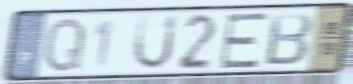1: (92, 19, 113, 70)
2: (177, 11, 220, 72)
B: (262, 10, 315, 68)
E: (217, 10, 271, 70)
Q: (41, 15, 88, 75)
U: (131, 13, 180, 72)
